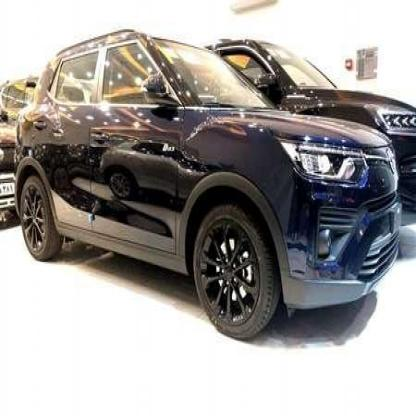Car: (31, 35, 402, 340), (211, 25, 416, 184), (0, 58, 31, 234)
